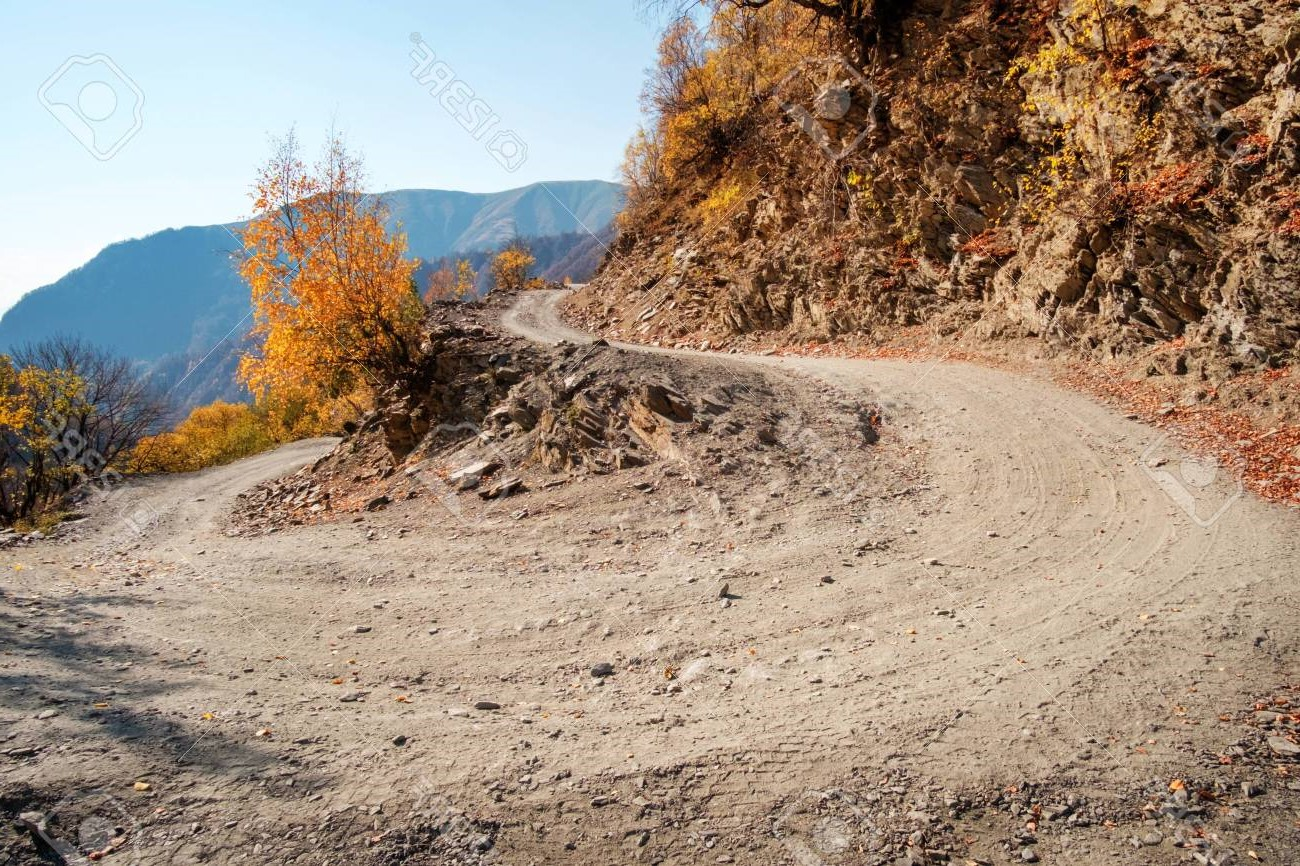leftTrun: (624, 315, 1201, 634)
